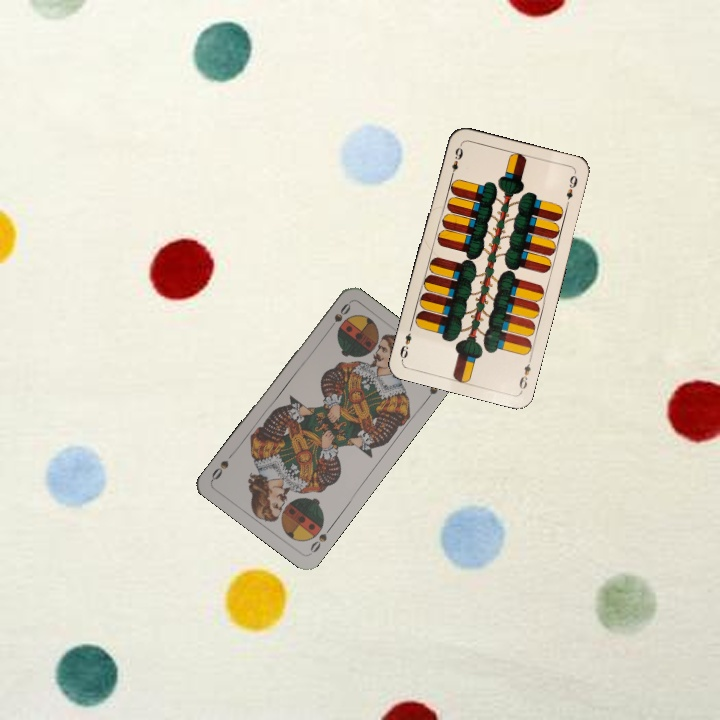E9: (515, 354, 534, 394), (447, 143, 465, 181)
SO: (323, 299, 353, 334), (306, 522, 335, 557)
